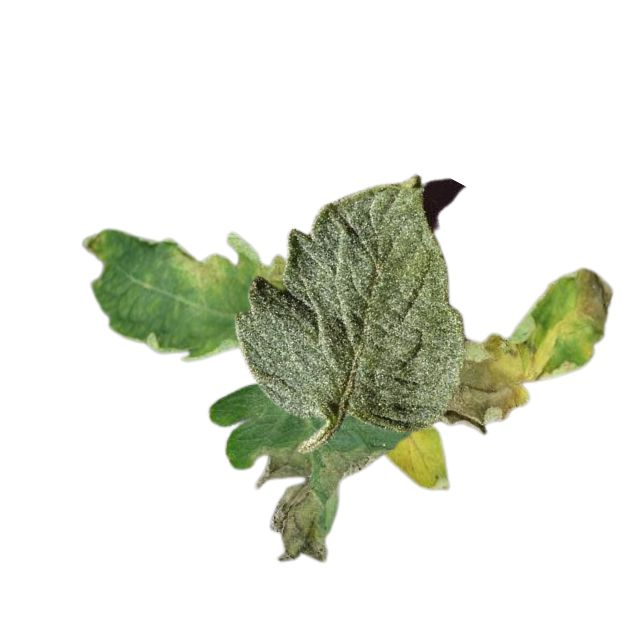Late_blight: (261, 446, 378, 562), (446, 334, 541, 435), (388, 428, 453, 491), (167, 240, 229, 297), (231, 233, 286, 289), (571, 266, 616, 334), (81, 231, 104, 256)
